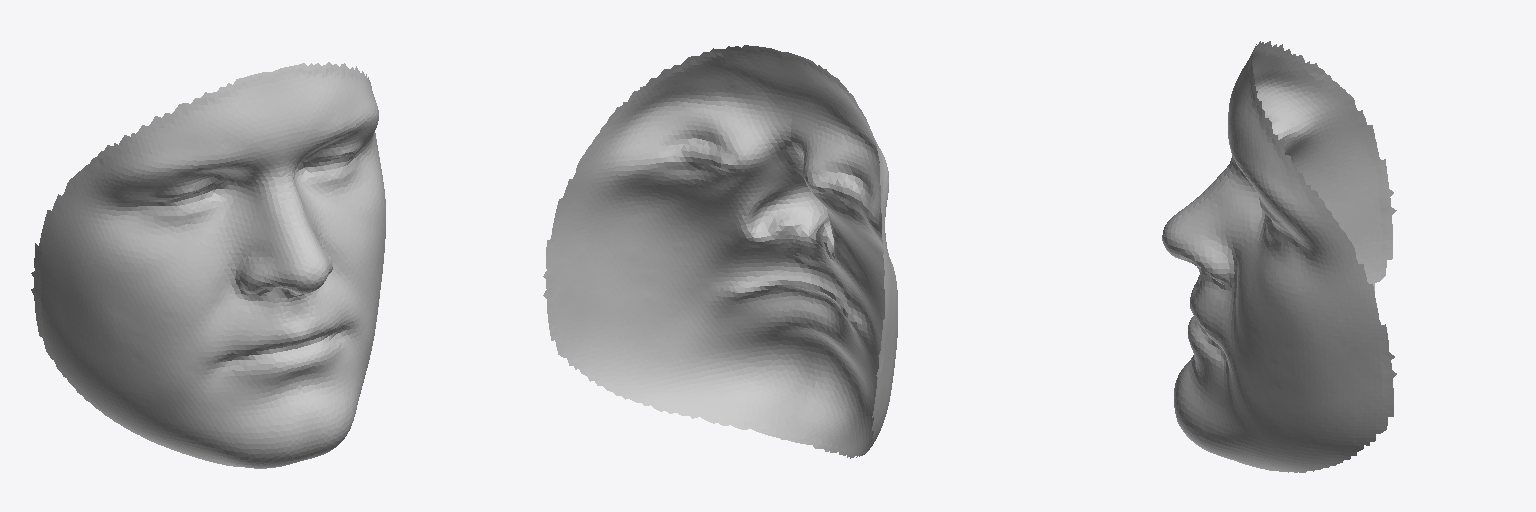
File: SIMPOP_08.obj
3 renders of one model, left to right at view 1: azimuth 30°, elevation 25°; view 2: azimuth 150°, elevation 25°; view 3: azimuth 270°, elevation 25°, orthographic.
Visible parts, largest first — view 1: SIMPOP_08; view 2: SIMPOP_08; view 3: SIMPOP_08.
Boxes of the visible parts, box(x1,y1,x2,y2) form: SIMPOP_08: box(31, 62, 385, 468); SIMPOP_08: box(543, 45, 897, 458); SIMPOP_08: box(1162, 41, 1396, 472).
Bounding box in the file's own units: 150 × 167 × 91.11.